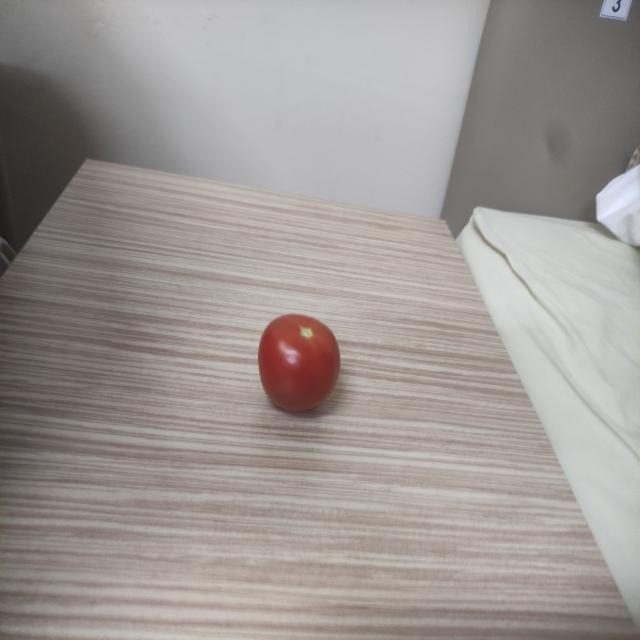kirmizi: (248, 299, 349, 424)
